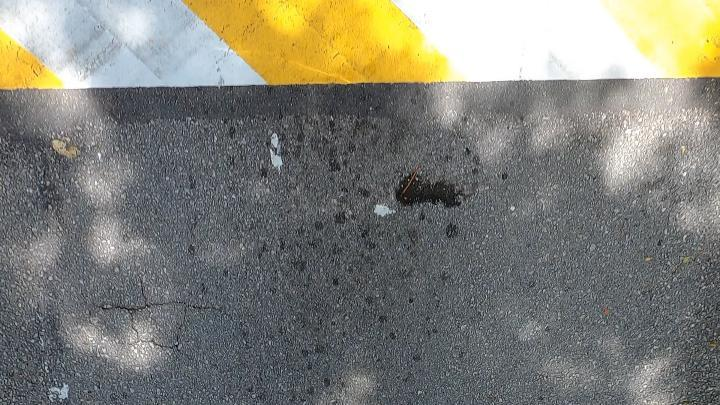Crack: (95, 268, 223, 356), (98, 274, 179, 352), (174, 302, 218, 319), (166, 321, 181, 350)
Lane: (0, 0, 719, 87), (1, 0, 720, 86)
